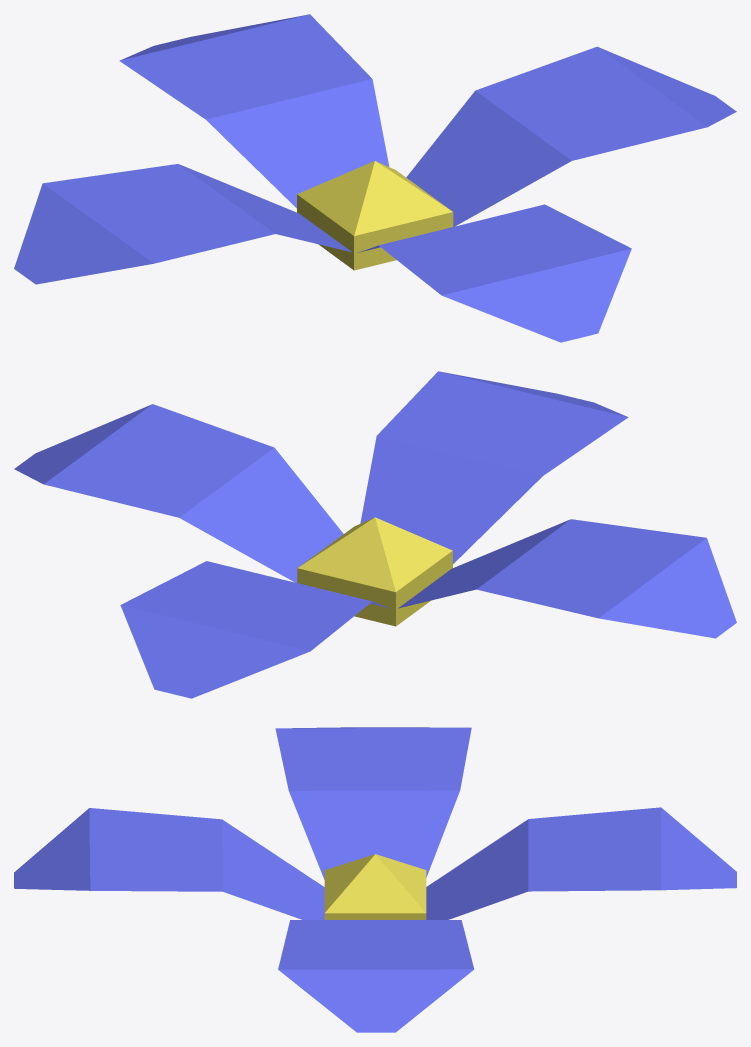
Rendered from Flower_Blue_3.fbx.
3 renders of one model, top to bottom at view 1: azimuth 30°, elevation 25°; view 2: azimuth 150°, elevation 25°; view 3: azimuth 270°, elevation 25°, orthographic. The views are drawn at different scales.
Parts seen in each view (by area): view 1: Flower_Blue_3; view 2: Flower_Blue_3; view 3: Flower_Blue_3.
Part boxes in pixels (x1,y1,x2,y2): Flower_Blue_3: (14, 14, 736, 342); Flower_Blue_3: (14, 371, 736, 698); Flower_Blue_3: (14, 727, 736, 1032).
Bounding box in the file's own units: 35.83 × 4.02 × 35.83.
